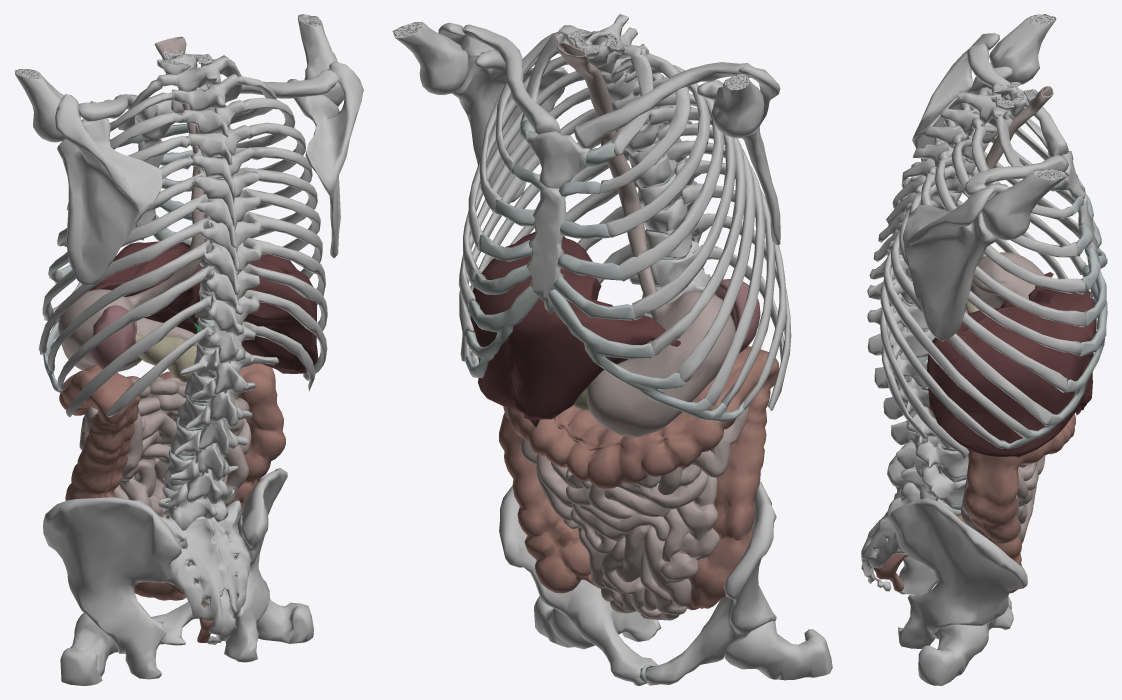
File: body.glb
3 renders of one model, left to right at view 1: azimuth 30°, elevation 25°; view 2: azimuth 150°, elevation 25°; view 3: azimuth 270°, elevation 25°, orthographic. The views are drawn at different scales.
Visible parts, largest first — view 1: Dunne_darms; view 2: Dunne_darms; view 3: Dunne_darms.
Boxes of the visible parts, box(x1,y1,x2,y2) form: Dunne_darms: box(14, 14, 363, 685); Dunne_darms: box(392, 14, 832, 685); Dunne_darms: box(861, 14, 1107, 685).
Size of the model in its own units: 30.26 by 51.51 by 20.56.
